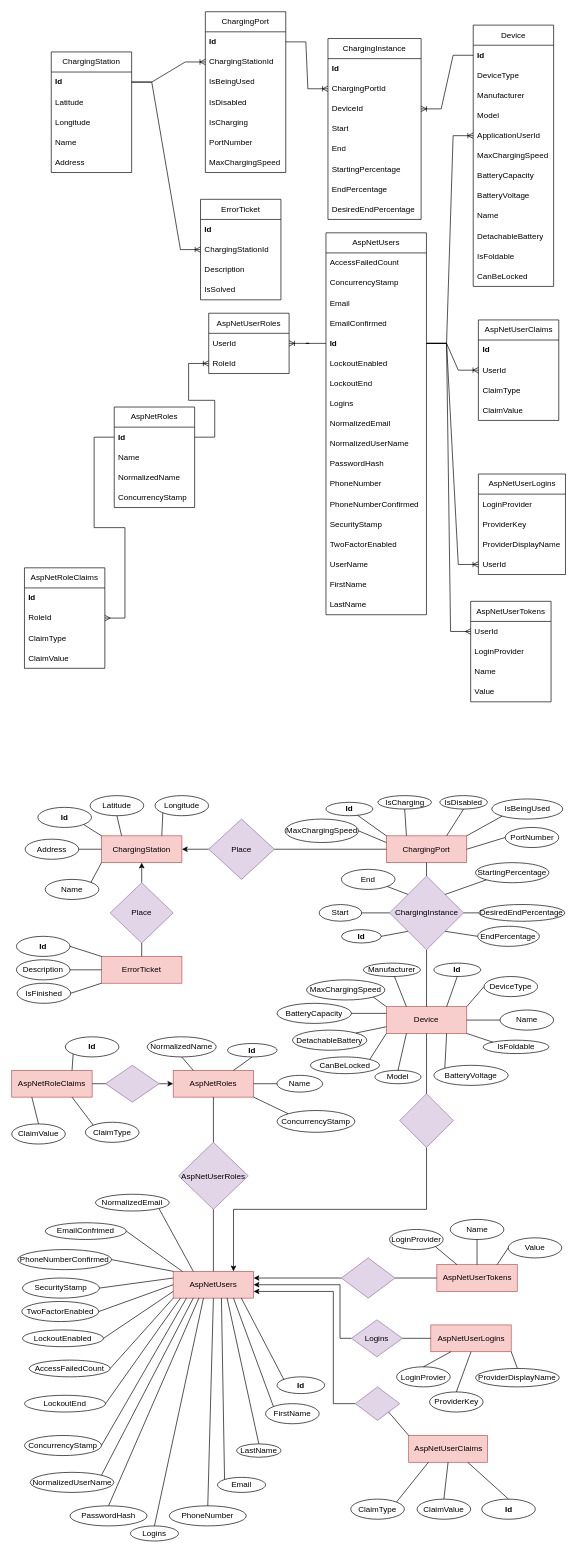
The diagram is 578 pixels wide and 1553 high, and some of its shapes have lost their labels. Each missing label, with the box of its shape:
Assigned to: (105, 1065, 159, 1102)
Claims: (355, 1386, 400, 1420)
Ownership: (399, 1093, 453, 1147)
Tokens: (341, 1257, 395, 1298)
